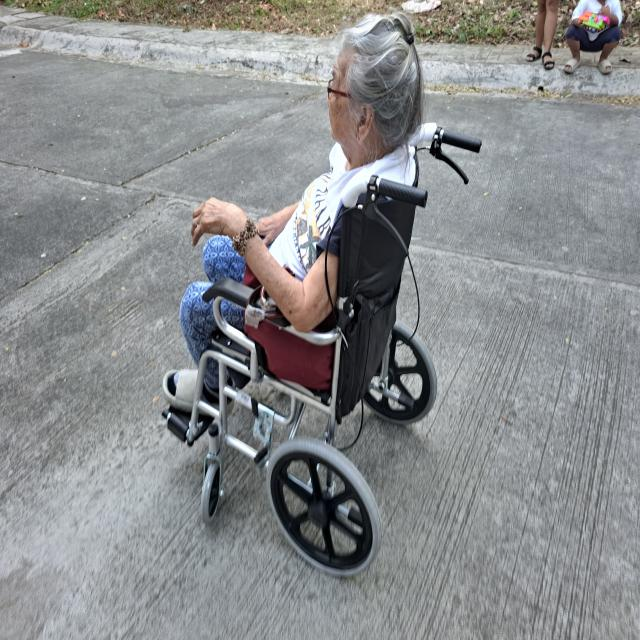wheelchairs: (163, 125, 488, 578)
